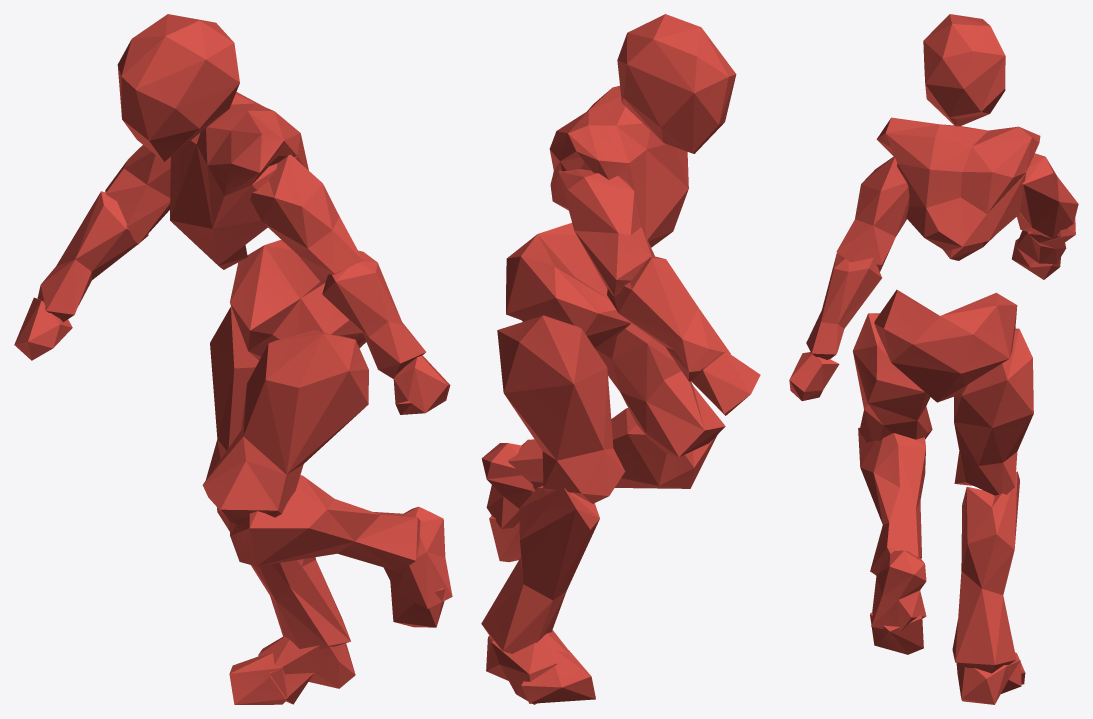
The model's file is 2dancer0200.obj.
The picture shows the model from 3 angles, left to right: view 1: azimuth 30°, elevation 25°; view 2: azimuth 150°, elevation 25°; view 3: azimuth 270°, elevation 25°; orthographic projection. The views are drawn at different scales.
Visible parts, largest first — view 1: Beta_Surface; view 2: Beta_Surface; view 3: Beta_Surface.
Boxes of the visible parts, <box> form: Beta_Surface: <box>14,14,452,704</box>; Beta_Surface: <box>481,14,760,704</box>; Beta_Surface: <box>789,14,1078,704</box>.
Size of the model in its own units: 0.9008 by 1.77 by 0.7417.
